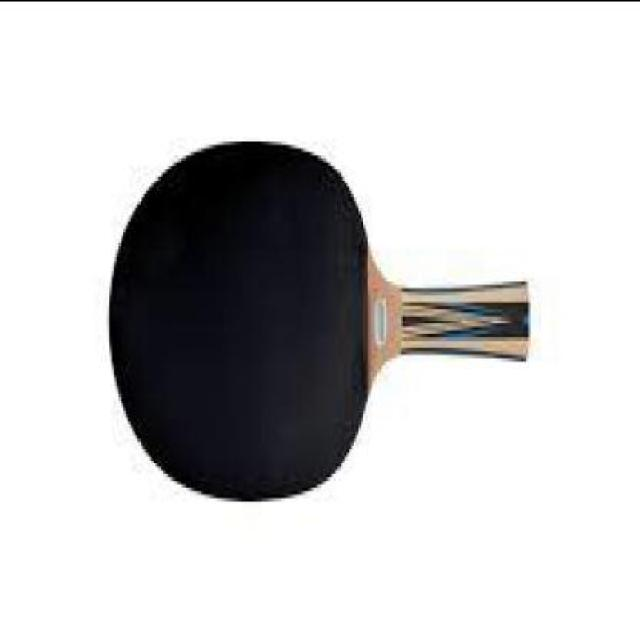table_tennis_racket: (106, 131, 400, 506)
